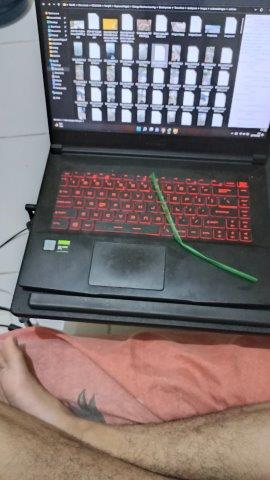sedotan: (150, 176, 257, 283)
